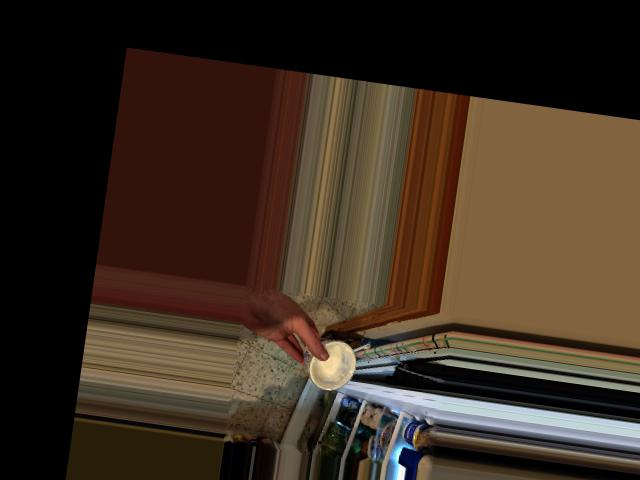cotage: (295, 334, 365, 392)
